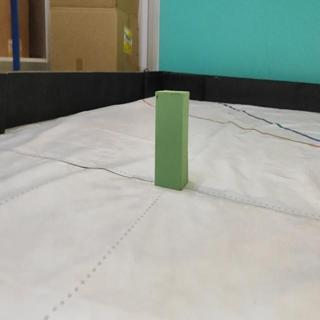greenbox: (153, 91, 189, 190)
